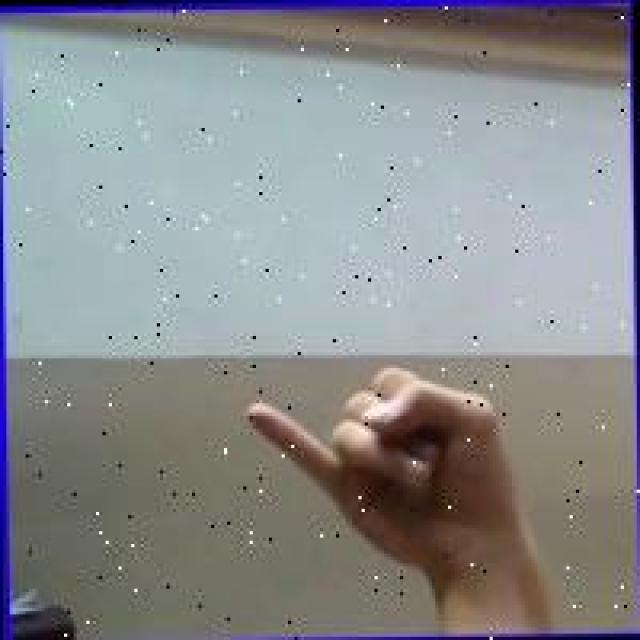J: (235, 357, 536, 571)
